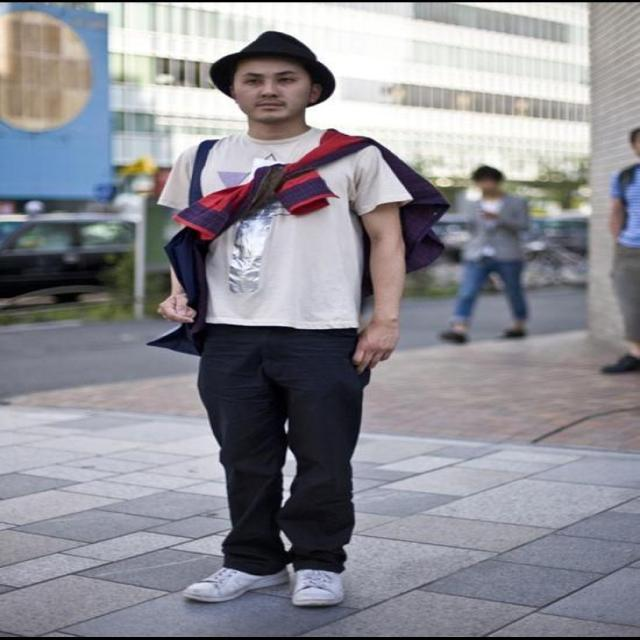Tshirt: (155, 128, 413, 330)
pants: (194, 309, 370, 576)
